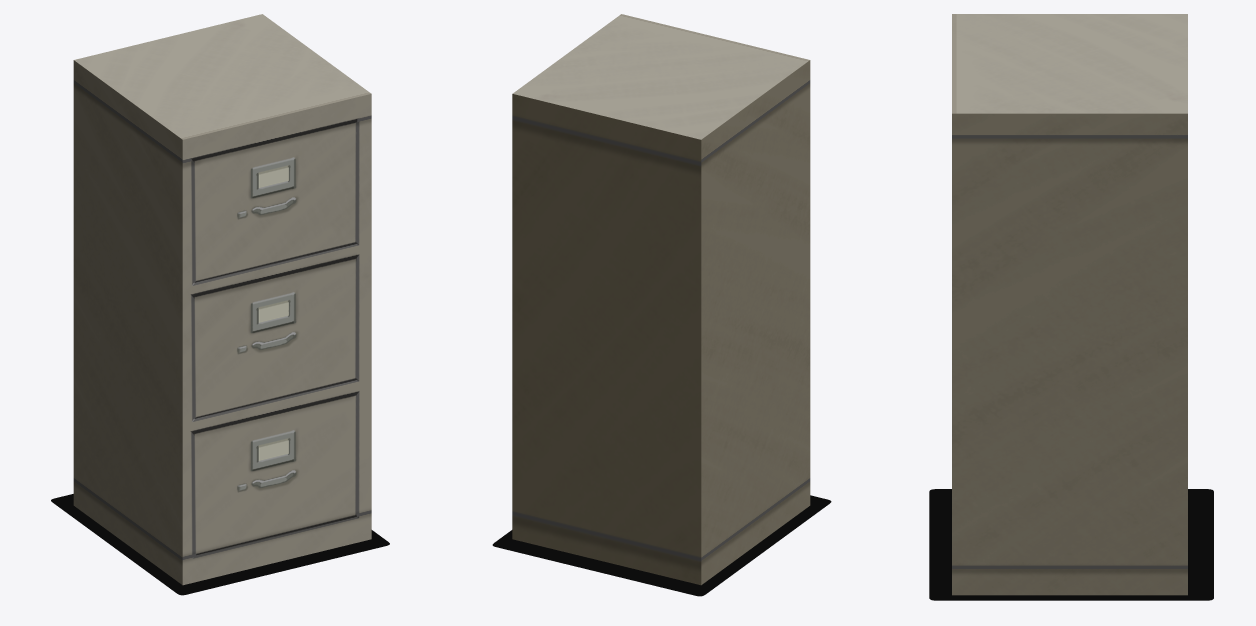
File: filing_cabinet.fbx
3 views of the same model, side by side, from view 1: azimuth 30°, elevation 25°; view 2: azimuth 150°, elevation 25°; view 3: azimuth 270°, elevation 25° (orthographic). The views are drawn at different scales.
Visible parts, largest first — view 1: filing_cabinet, shadow; view 2: filing_cabinet, shadow; view 3: filing_cabinet, shadow.
Part boxes in pixels (box(x1,y1,x2,y2)): filing_cabinet: box(73, 14, 371, 585); shadow: box(51, 494, 389, 595); filing_cabinet: box(512, 14, 810, 585); shadow: box(492, 495, 831, 596); filing_cabinet: box(952, 14, 1187, 595); shadow: box(929, 489, 1213, 600).
Size of what is drawn, in the model's own units: 2.4 by 4.03 by 2.59.
2 materials, 2 textured.
